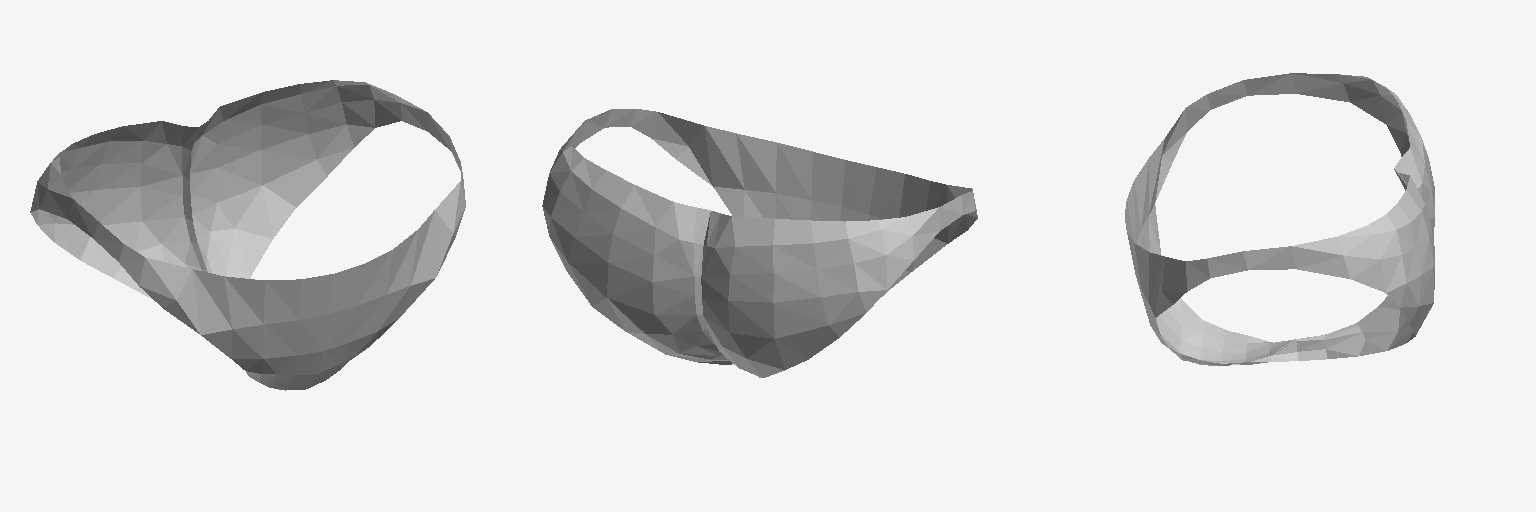
File: 99 Pant.obj
3 renders of one model, left to right at view 1: azimuth 30°, elevation 25°; view 2: azimuth 150°, elevation 25°; view 3: azimuth 270°, elevation 25°, orthographic.
Visible parts, largest first — view 1: Pants_mtr_Black_TailedGull_115.020; view 2: Pants_mtr_Black_TailedGull_115.020; view 3: Pants_mtr_Black_TailedGull_115.020.
Boxes of the visible parts, box(x1,y1,x2,y2) form: Pants_mtr_Black_TailedGull_115.020: box(30, 80, 465, 390); Pants_mtr_Black_TailedGull_115.020: box(542, 109, 977, 377); Pants_mtr_Black_TailedGull_115.020: box(1125, 73, 1434, 365).
Bounding box in the file's own units: 0.2384 × 0.1323 × 0.1773.